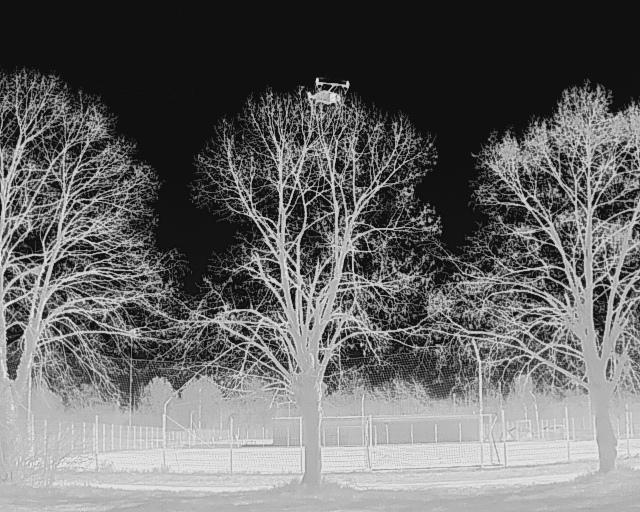drone: (298, 71, 357, 117)
